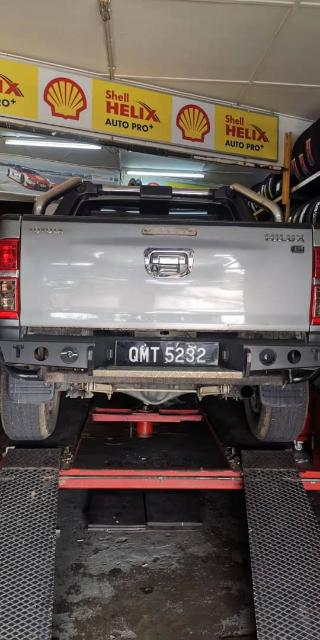License_Plate: (117, 342, 220, 366)
car: (1, 170, 320, 472)
